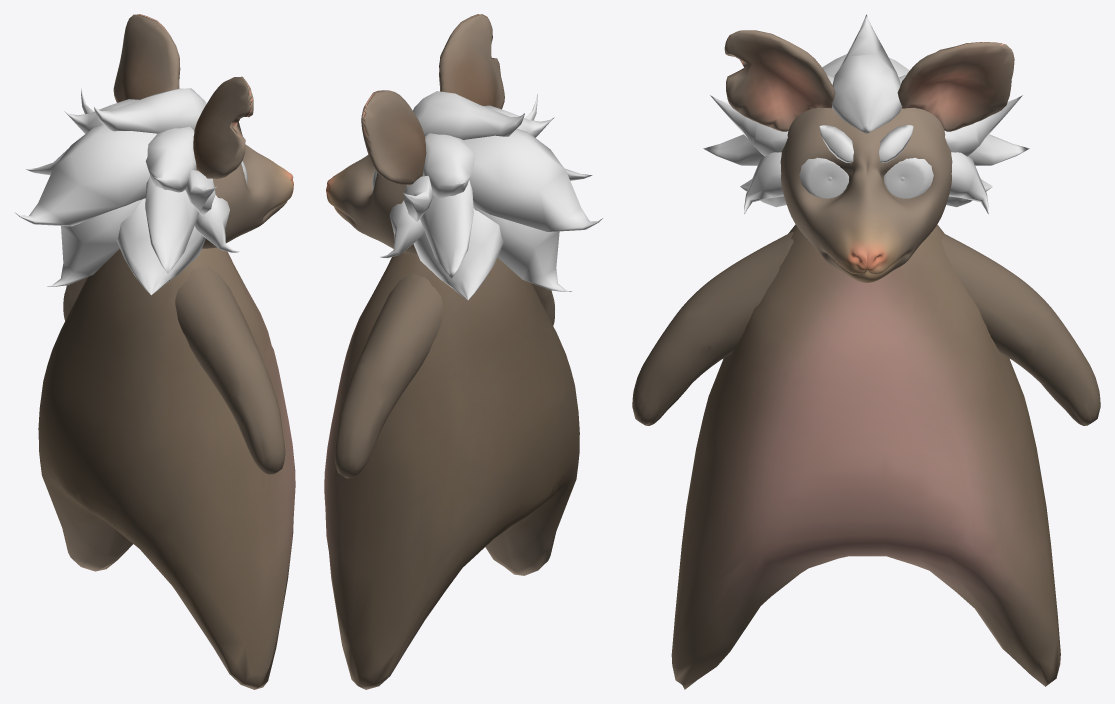
The model's file is guardianrat_notail.fbx.
The picture shows the model from 3 angles, left to right: view 1: azimuth 30°, elevation 25°; view 2: azimuth 150°, elevation 25°; view 3: azimuth 270°, elevation 25°; orthographic projection. The views are drawn at different scales.
Parts seen in each view (by area): view 1: body.002, hair; view 2: body.002, hair; view 3: body.002, hair, body.004, eye left, eye right.
Boxes of the visible parts, x1,y1,x2,y2 form: body.002: (38,247,295,689); hair: (14,14,293,295); body.002: (324,253,579,689); hair: (326,14,602,300); body.002: (632,224,1100,689); hair: (703,14,1029,282); body.004: (819,125,913,163); eye left: (884,157,933,198); eye right: (799,157,849,198).
Bounding box in the file's own units: 291 × 582 × 371.
5 materials, 2 textured.
